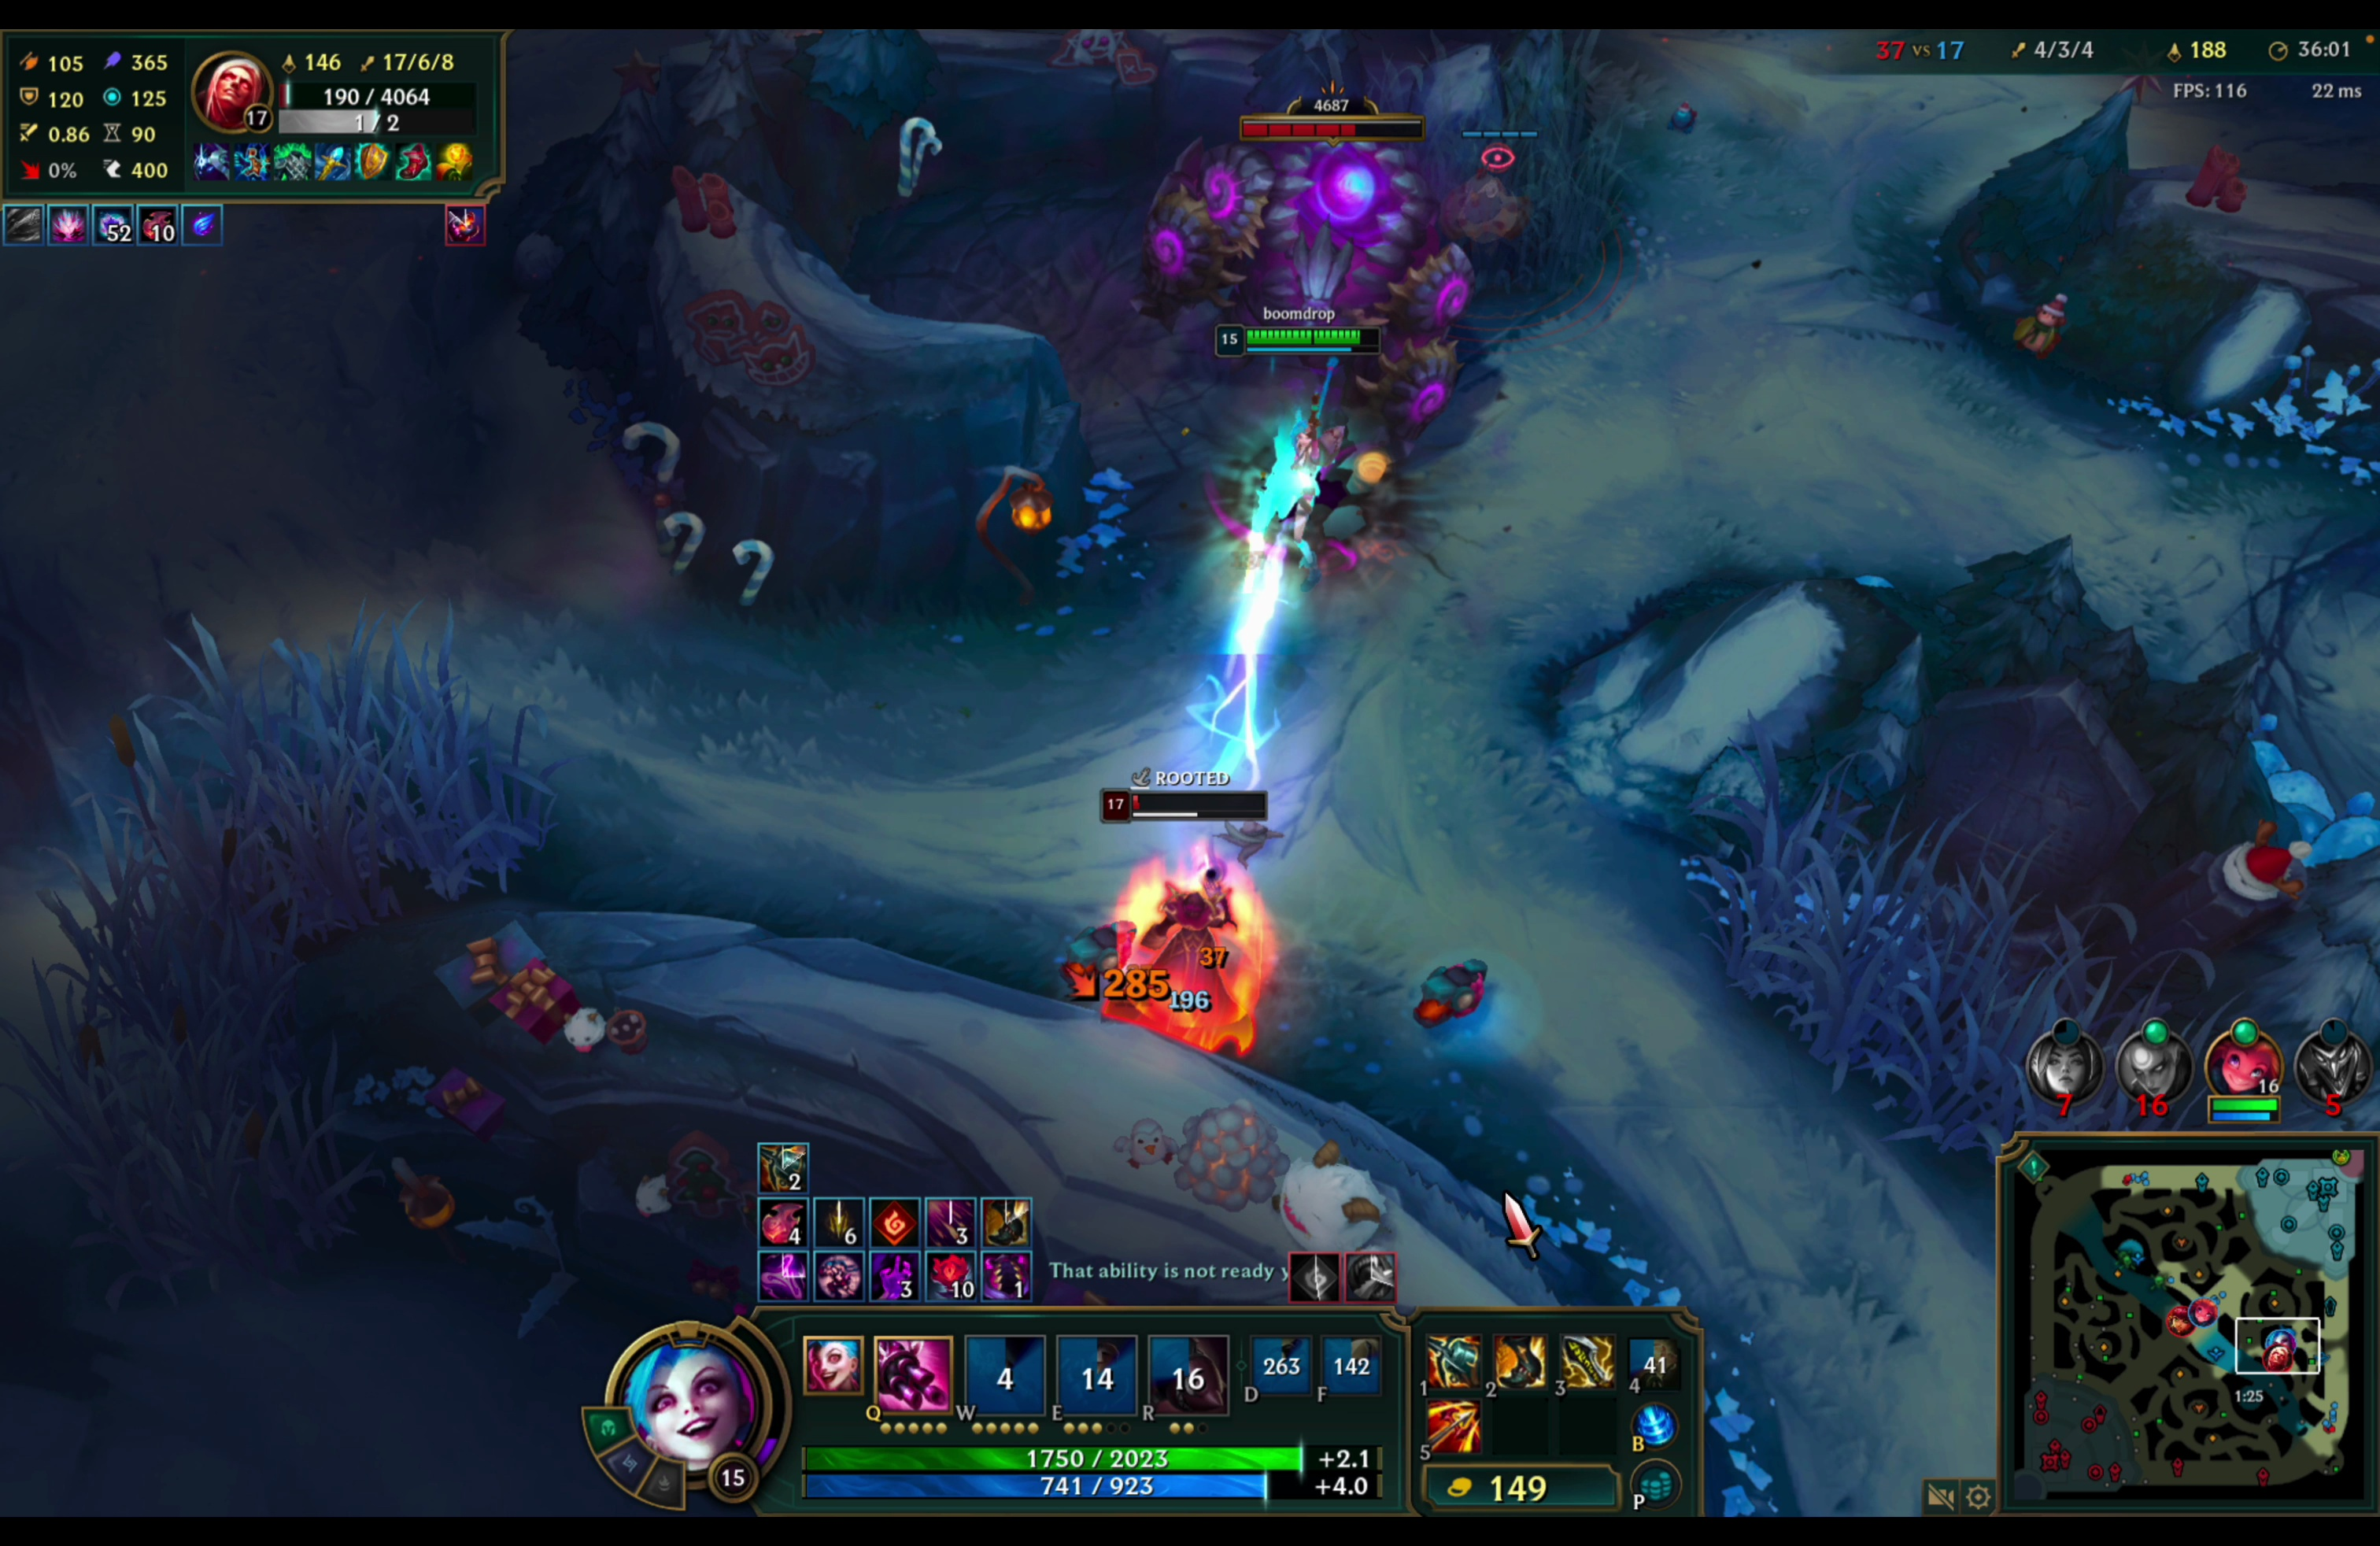JINX_W_PROJECTILE: (1152, 295, 1416, 798)
